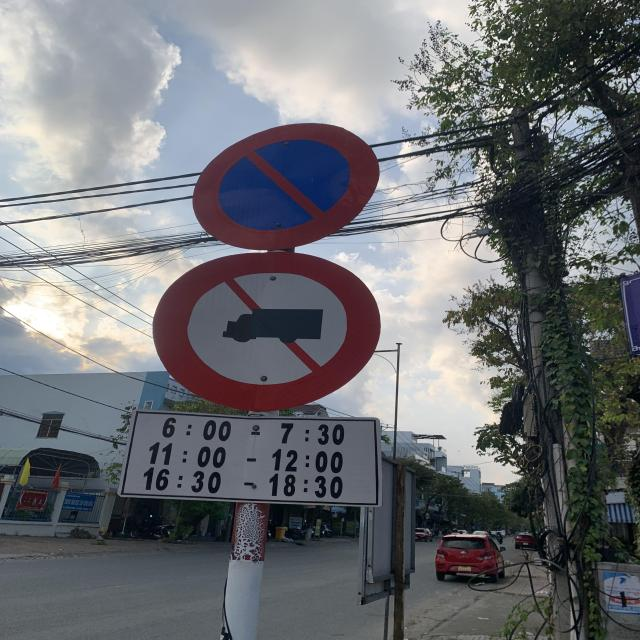Cam_Dau_Xe: (194, 124, 379, 251)
Cam_Xe_Tai: (153, 251, 381, 409)
